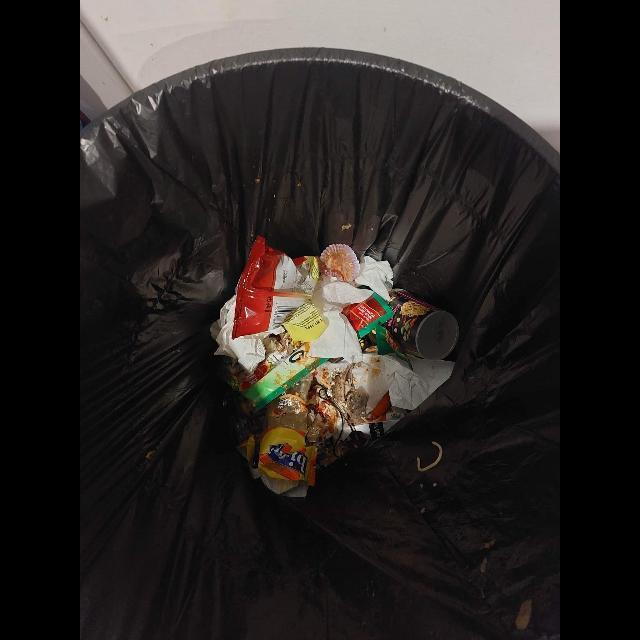biowaste: (331, 364, 368, 424)
paper: (319, 353, 454, 413), (308, 276, 374, 364), (210, 294, 285, 371), (350, 256, 393, 301)
wrapper: (232, 236, 327, 343), (229, 349, 330, 412), (237, 427, 318, 498)
